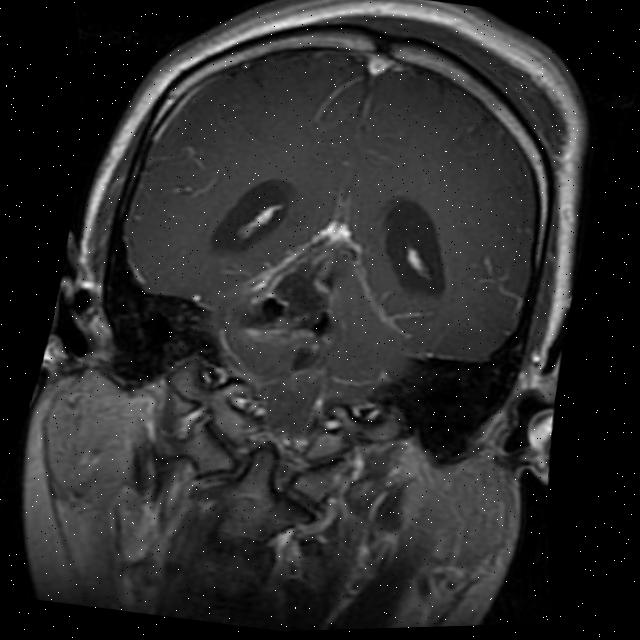Glioma: (233, 236, 349, 376)
